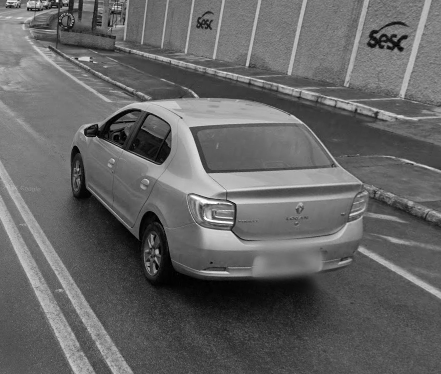car: (65, 84, 372, 295)
